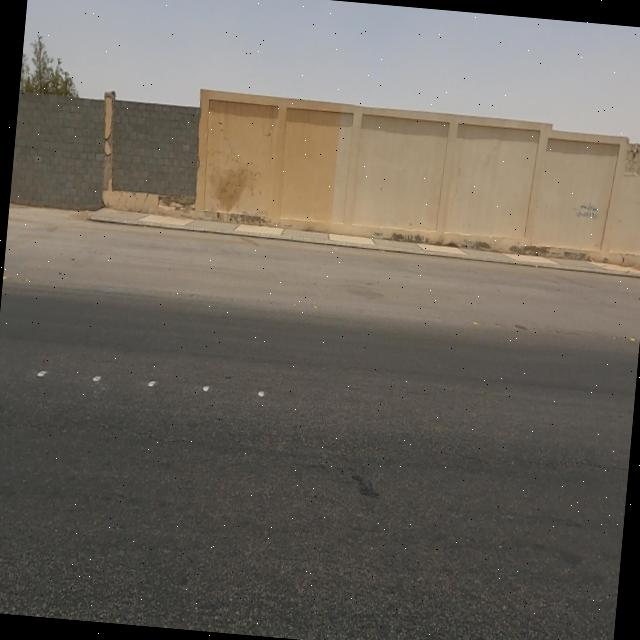Graffiti: (575, 198, 602, 226)
